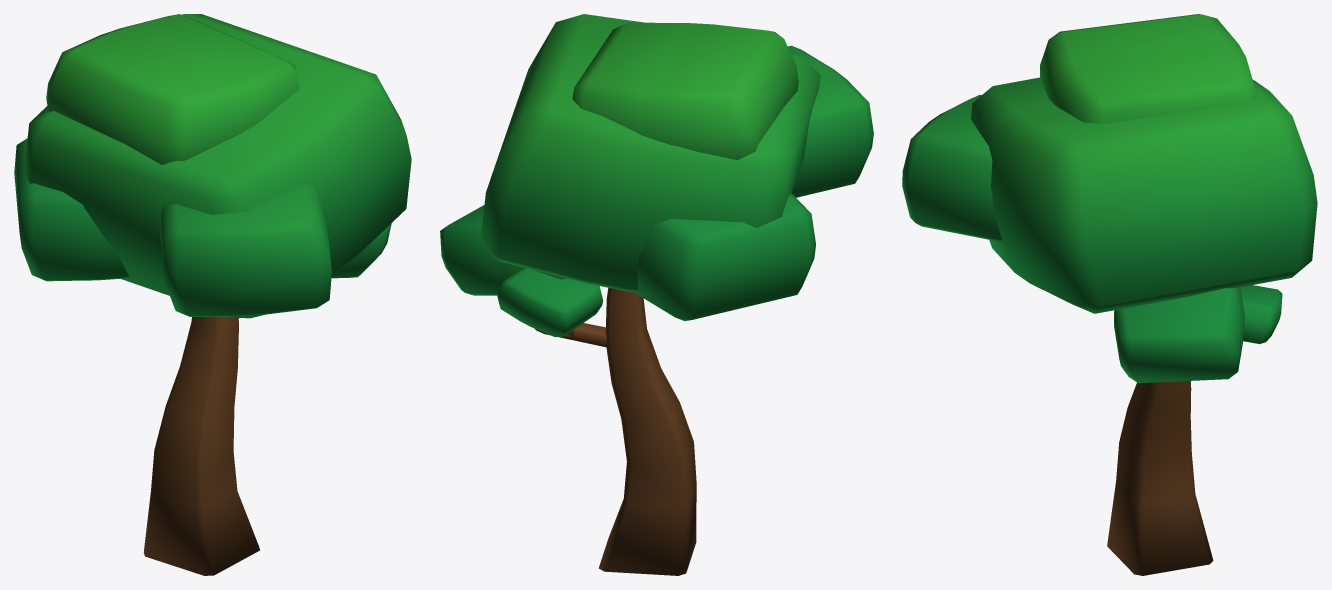
File: Tree_2_1.obj
The picture shows the model from 3 angles, left to right: view 1: azimuth 30°, elevation 25°; view 2: azimuth 150°, elevation 25°; view 3: azimuth 270°, elevation 25°; orthographic projection. The views are drawn at different scales.
Visible parts, largest first — view 1: Tree_2_1; view 2: Tree_2_1; view 3: Tree_2_1.
Part boxes in pixels (box(x1,y1,x2,y2)): Tree_2_1: box(14, 14, 411, 575); Tree_2_1: box(440, 14, 873, 575); Tree_2_1: box(902, 14, 1317, 575).
Size of the model in its own units: 2.43 by 3.37 by 2.59.
